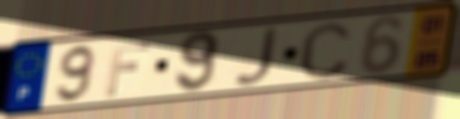6: (355, 12, 408, 79)
9: (172, 29, 221, 96), (53, 42, 99, 104)
C: (296, 19, 354, 82)
F: (102, 39, 153, 99)
J: (230, 25, 281, 88)
